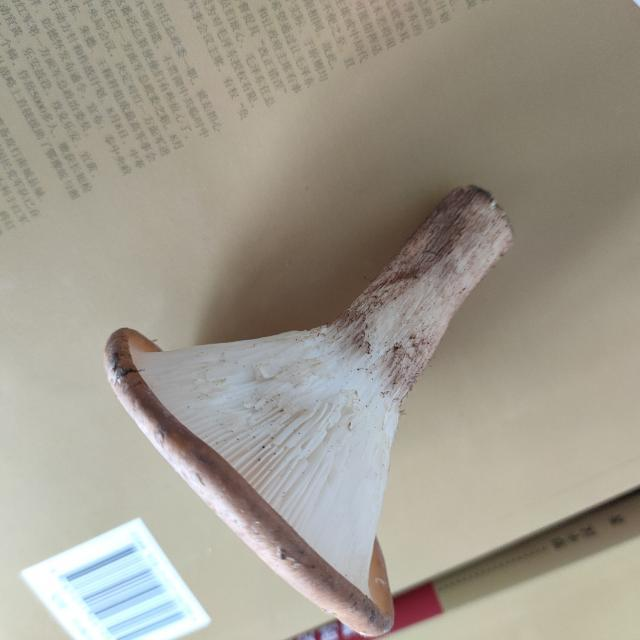Clitocybe maxima: (101, 187, 516, 640)
